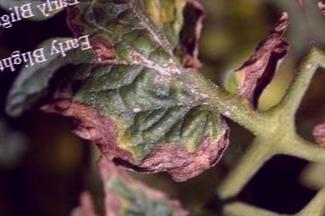Tomato Early blight leaf: (9, 0, 237, 213)
